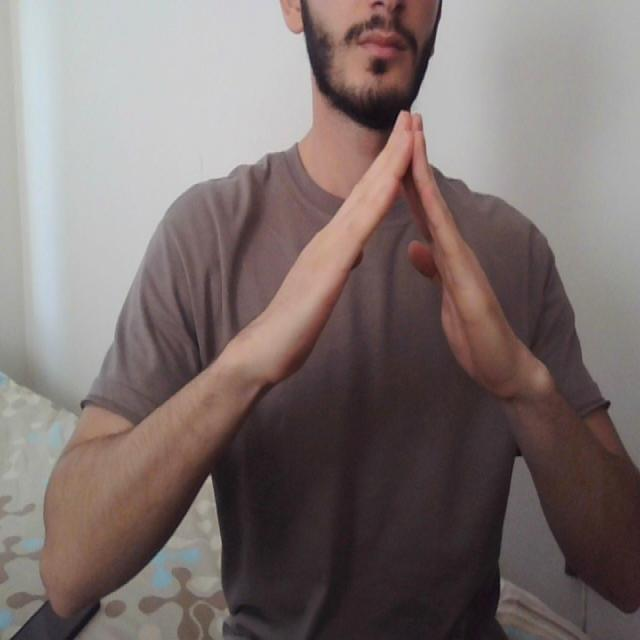Ev: (239, 107, 542, 411)
